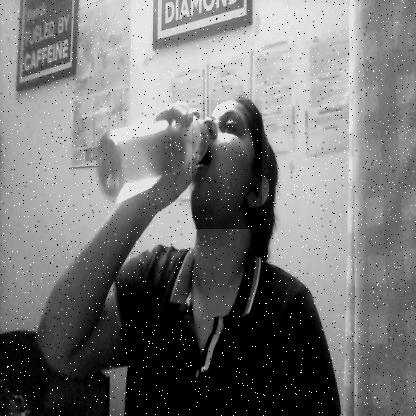Distracted: (192, 100, 262, 229)
